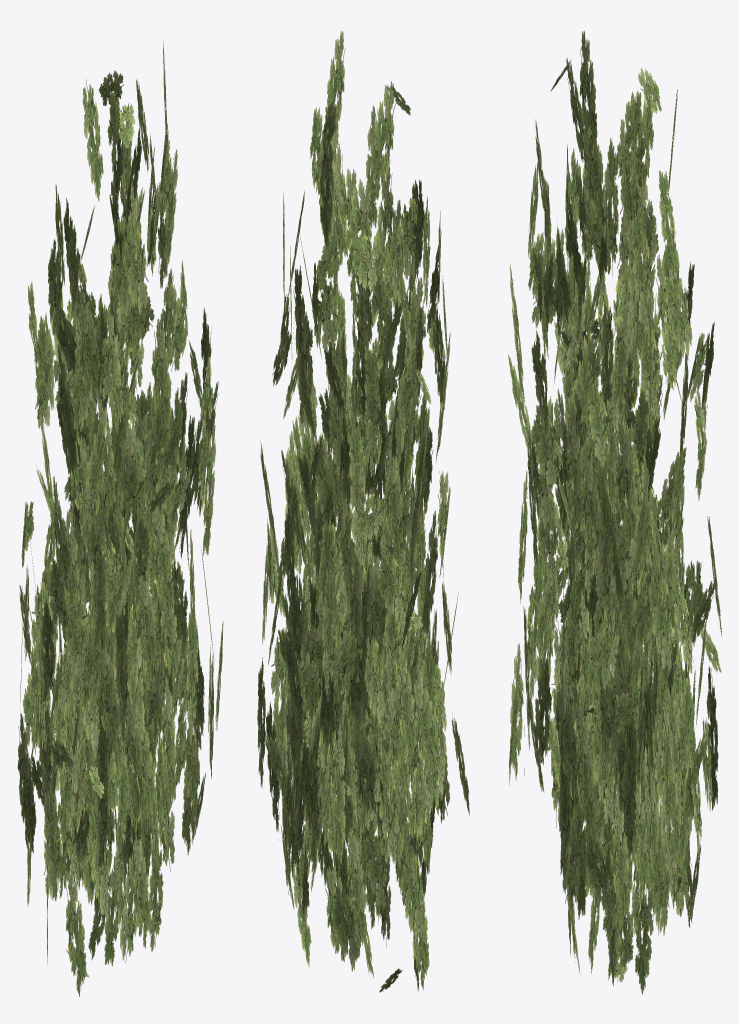
The model's file is cypress.glb.
The picture shows the model from 3 angles, left to right: view 1: azimuth 30°, elevation 25°; view 2: azimuth 150°, elevation 25°; view 3: azimuth 270°, elevation 25°; orthographic projection. The views are drawn at different scales.
Visible parts, largest first — view 1: Cube; view 2: Cube; view 3: Cube.
Part boxes in pixels (left/top/right/bottom): Cube: left=17, top=41, right=223, bottom=996; Cube: left=257, top=31, right=469, bottom=992; Cube: left=508, top=31, right=721, bottom=994.
Size of the model in its own units: 9.24 by 47.83 by 9.44.
Materials: 1 (1 with a texture image).
